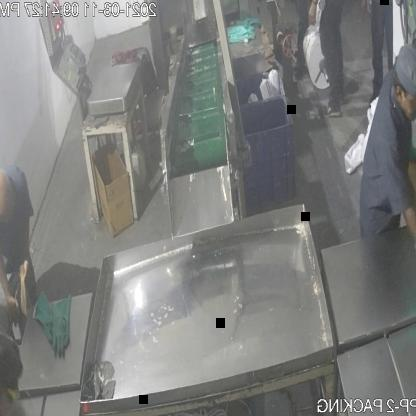no_glove: (0, 238, 21, 337), (307, 0, 326, 32)
